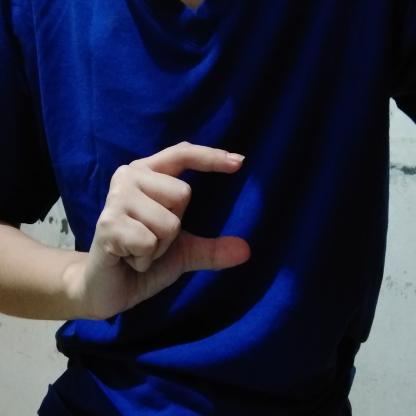small: (70, 136, 266, 331)
